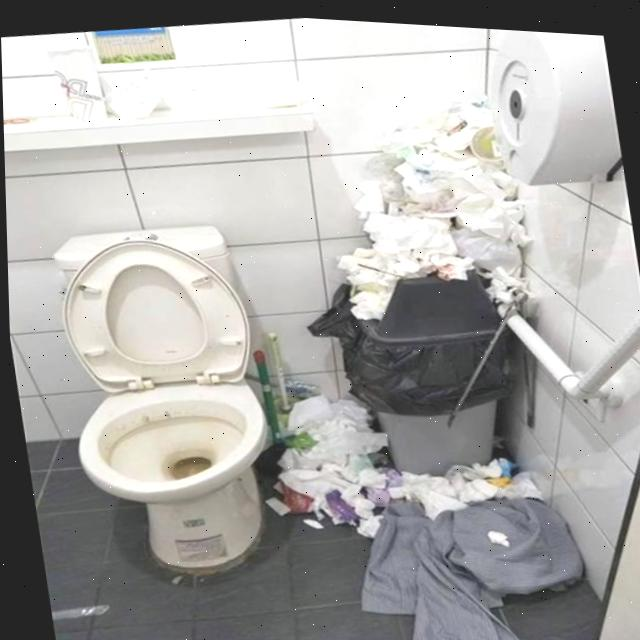dirty_area: (83, 382, 254, 507)
garbage: (257, 436, 603, 640), (34, 15, 308, 141)
overflow_bin: (220, 78, 568, 491)
